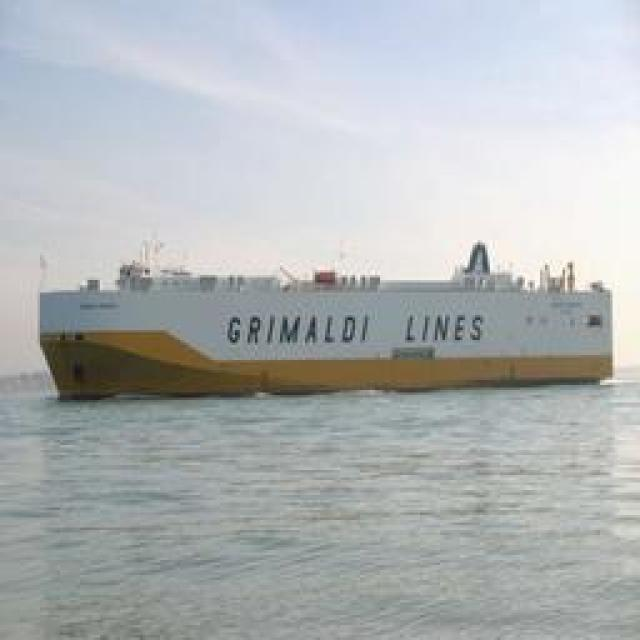CIV_Ship: (26, 225, 622, 405)
